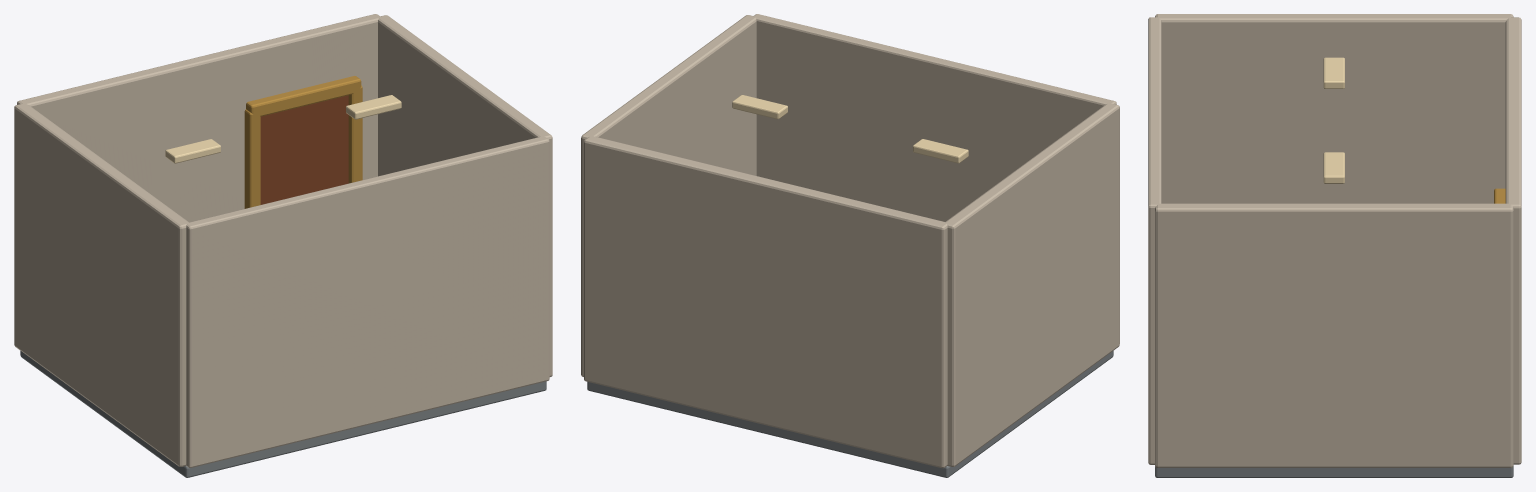
Rendered from apartment_doorway_section_a.glb.
The picture shows the model from 3 angles, left to right: view 1: azimuth 30°, elevation 25°; view 2: azimuth 150°, elevation 25°; view 3: azimuth 270°, elevation 25°; orthographic projection. The views are drawn at different scales.
Parts seen in each view (by area): view 1: CUTAWAY_FRONT, SET_Wall_Left, SET_Wall_Back, SET_Wall_Right, SET_Apartment_Door, SET_Floor, SET_Apartment_Header, SET_Apartment_Jamb_L, SET_Apartment_Jamb_R, SET_LightFixture_L, SET_LightFixture_R; view 2: SET_Wall_Back, SET_Wall_Left, CUTAWAY_FRONT, SET_Wall_Right, SET_Floor, SET_LightFixture_L, SET_LightFixture_R; view 3: SET_Wall_Right, SET_Wall_Left, SET_Wall_Back, CUTAWAY_FRONT, SET_Floor, SET_LightFixture_R, SET_LightFixture_L.
Part boxes in pixels (x1,y1,x2,y2): CUTAWAY_FRONT: (186,136,549,467); SET_Wall_Left: (14,103,188,466); SET_Wall_Back: (17,14,380,222); SET_Wall_Right: (378,15,552,376); SET_Apartment_Door: (260,95,348,204); SET_Floor: (20,351,546,477); SET_Apartment_Header: (246,76,361,117); SET_Apartment_Jamb_L: (244,109,260,208); SET_Apartment_Jamb_R: (348,85,362,183); SET_LightFixture_L: (165,139,220,163); SET_LightFixture_R: (346,95,401,119); SET_Wall_Back: (584,136,947,468); SET_Wall_Left: (945,103,1119,466); CUTAWAY_FRONT: (753,14,1116,221); SET_Wall_Right: (581,15,756,376); SET_Floor: (587,351,1113,477); SET_LightFixture_L: (913,139,968,163); SET_LightFixture_R: (732,95,787,119); SET_Wall_Right: (1155,203,1513,467); SET_Wall_Left: (1155,14,1513,203); SET_Wall_Back: (1505,17,1521,464); CUTAWAY_FRONT: (1148,17,1161,464); SET_Floor: (1155,466,1513,477); SET_LightFixture_R: (1323,152,1344,183); SET_LightFixture_L: (1323,57,1344,88).
Size of what is drawn, in the model's own units: 5.18 by 3.36 by 4.17.
